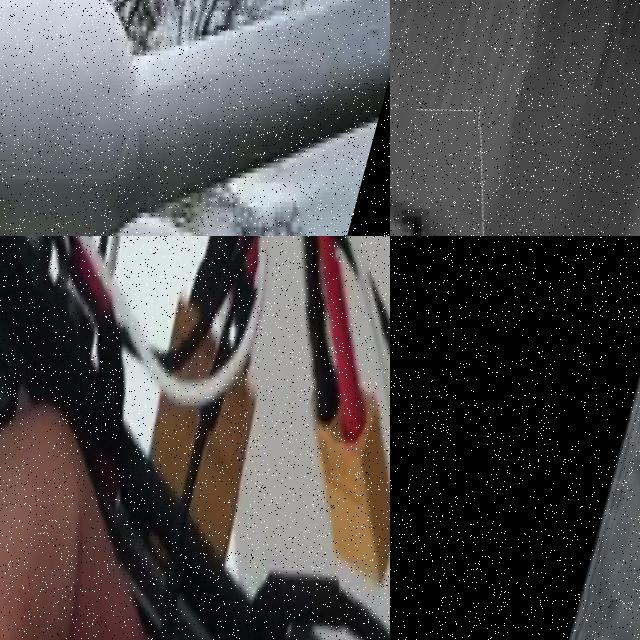0: (390, 58, 515, 236)
drone: (0, 236, 390, 640), (0, 0, 390, 236)
